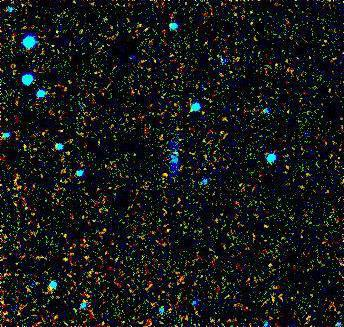star: (147, 161, 177, 191)
